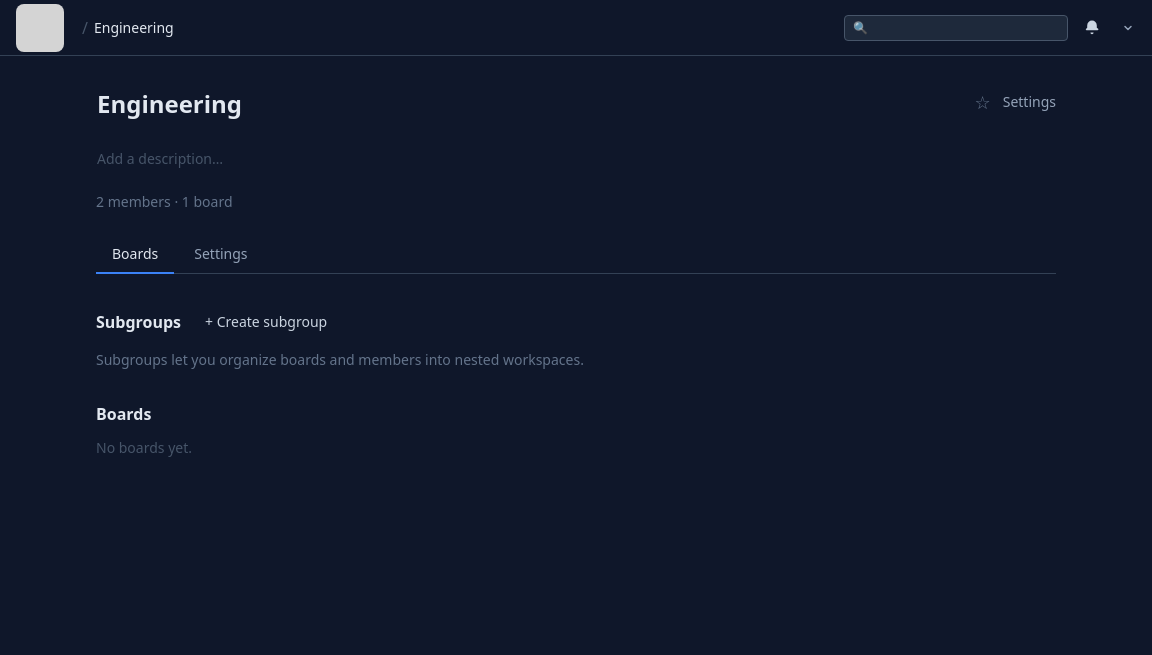
Test: GroupDetail › surfaces an error and leaves the toggle unchanged when a priority toggle fails (#1386)
Click the 1st button "Settings": point(1029, 102) [1003, 92, 1056, 112]
(page scrolled)
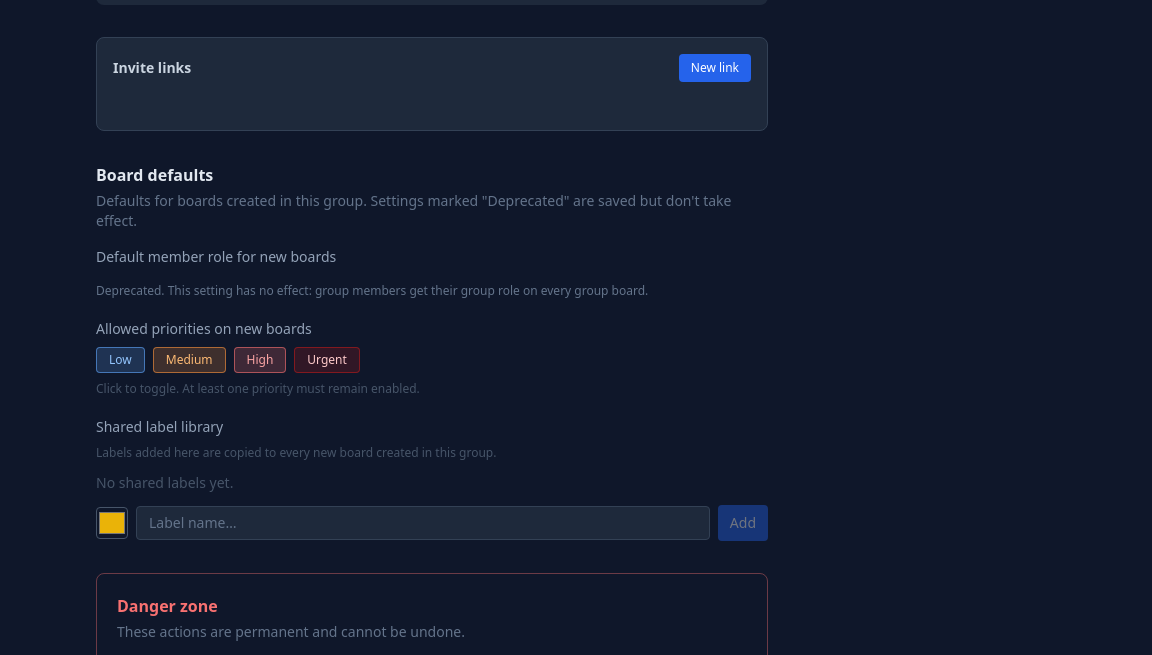
Now the heading "Board defaults" is shown, box [96, 164, 213, 186]
Click the button "low": point(120, 360) [96, 347, 145, 373]
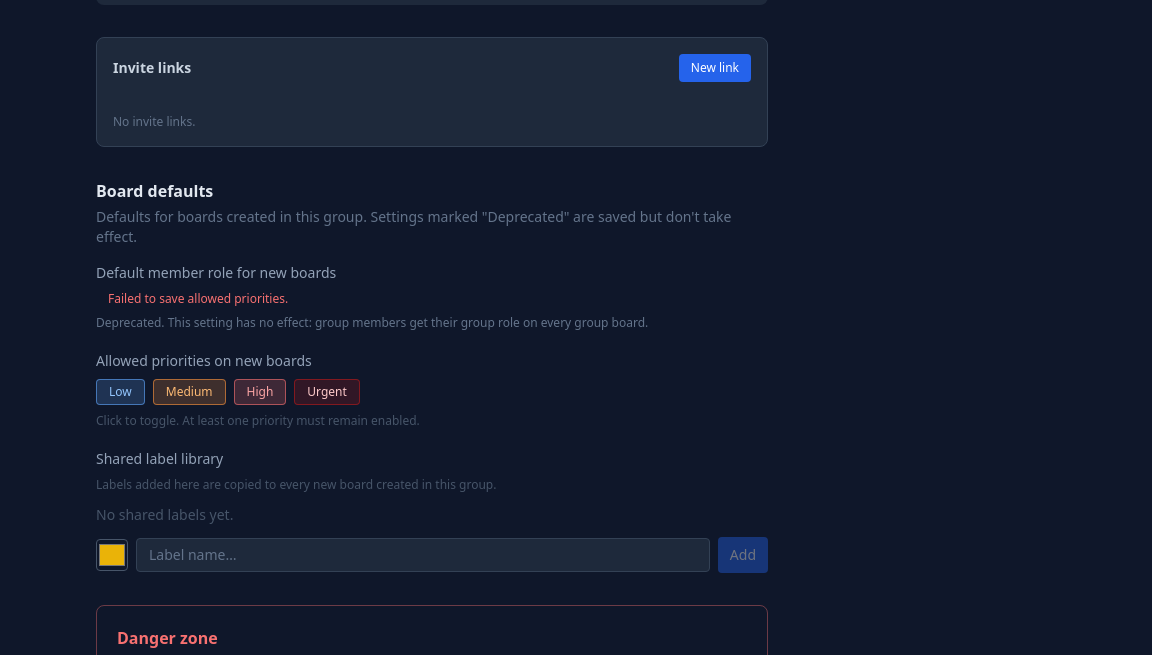
Now the message reads "Failed to save allowed priorities.", box [108, 290, 288, 307]
